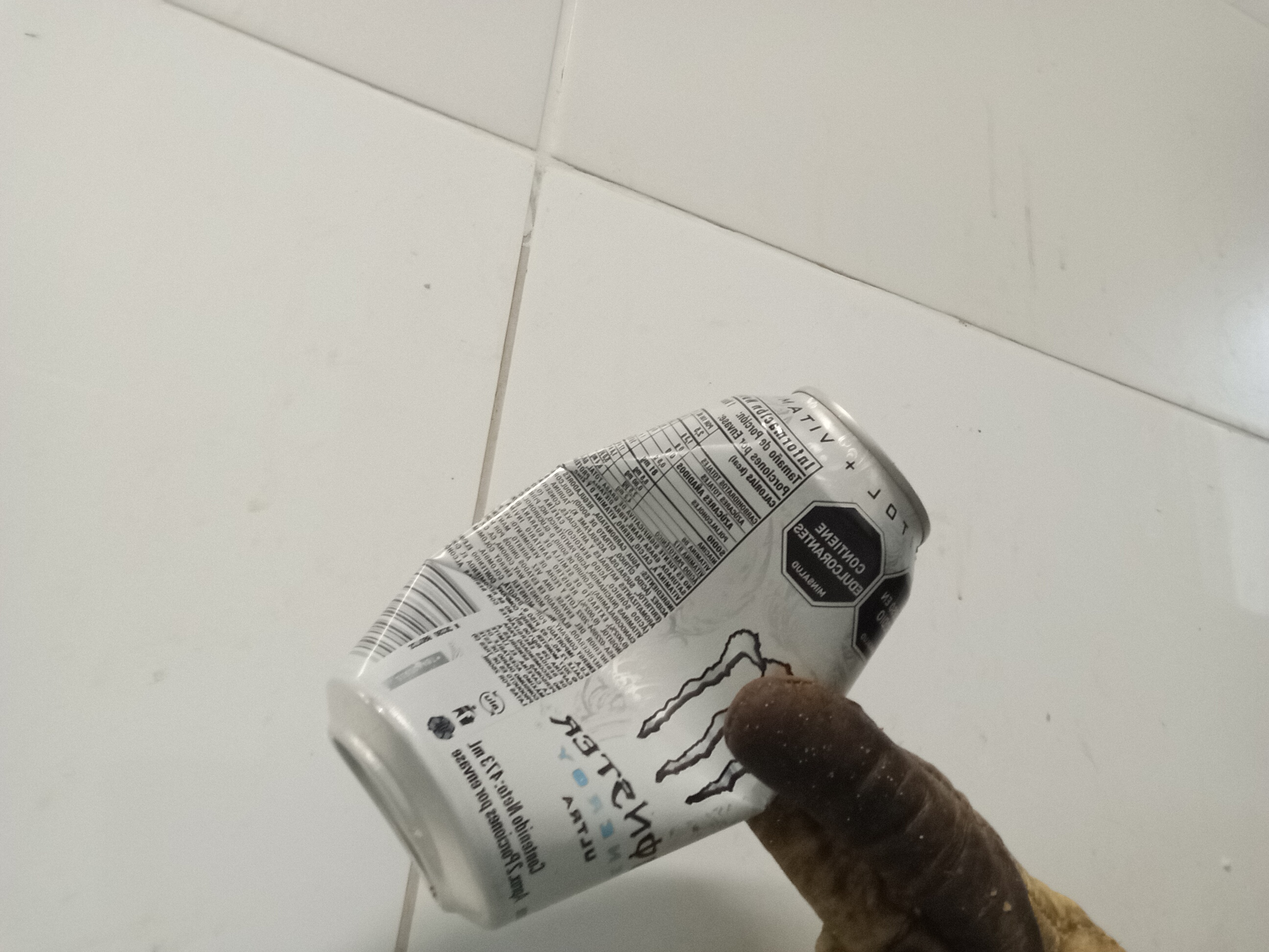Metal: (327, 385, 932, 928)
